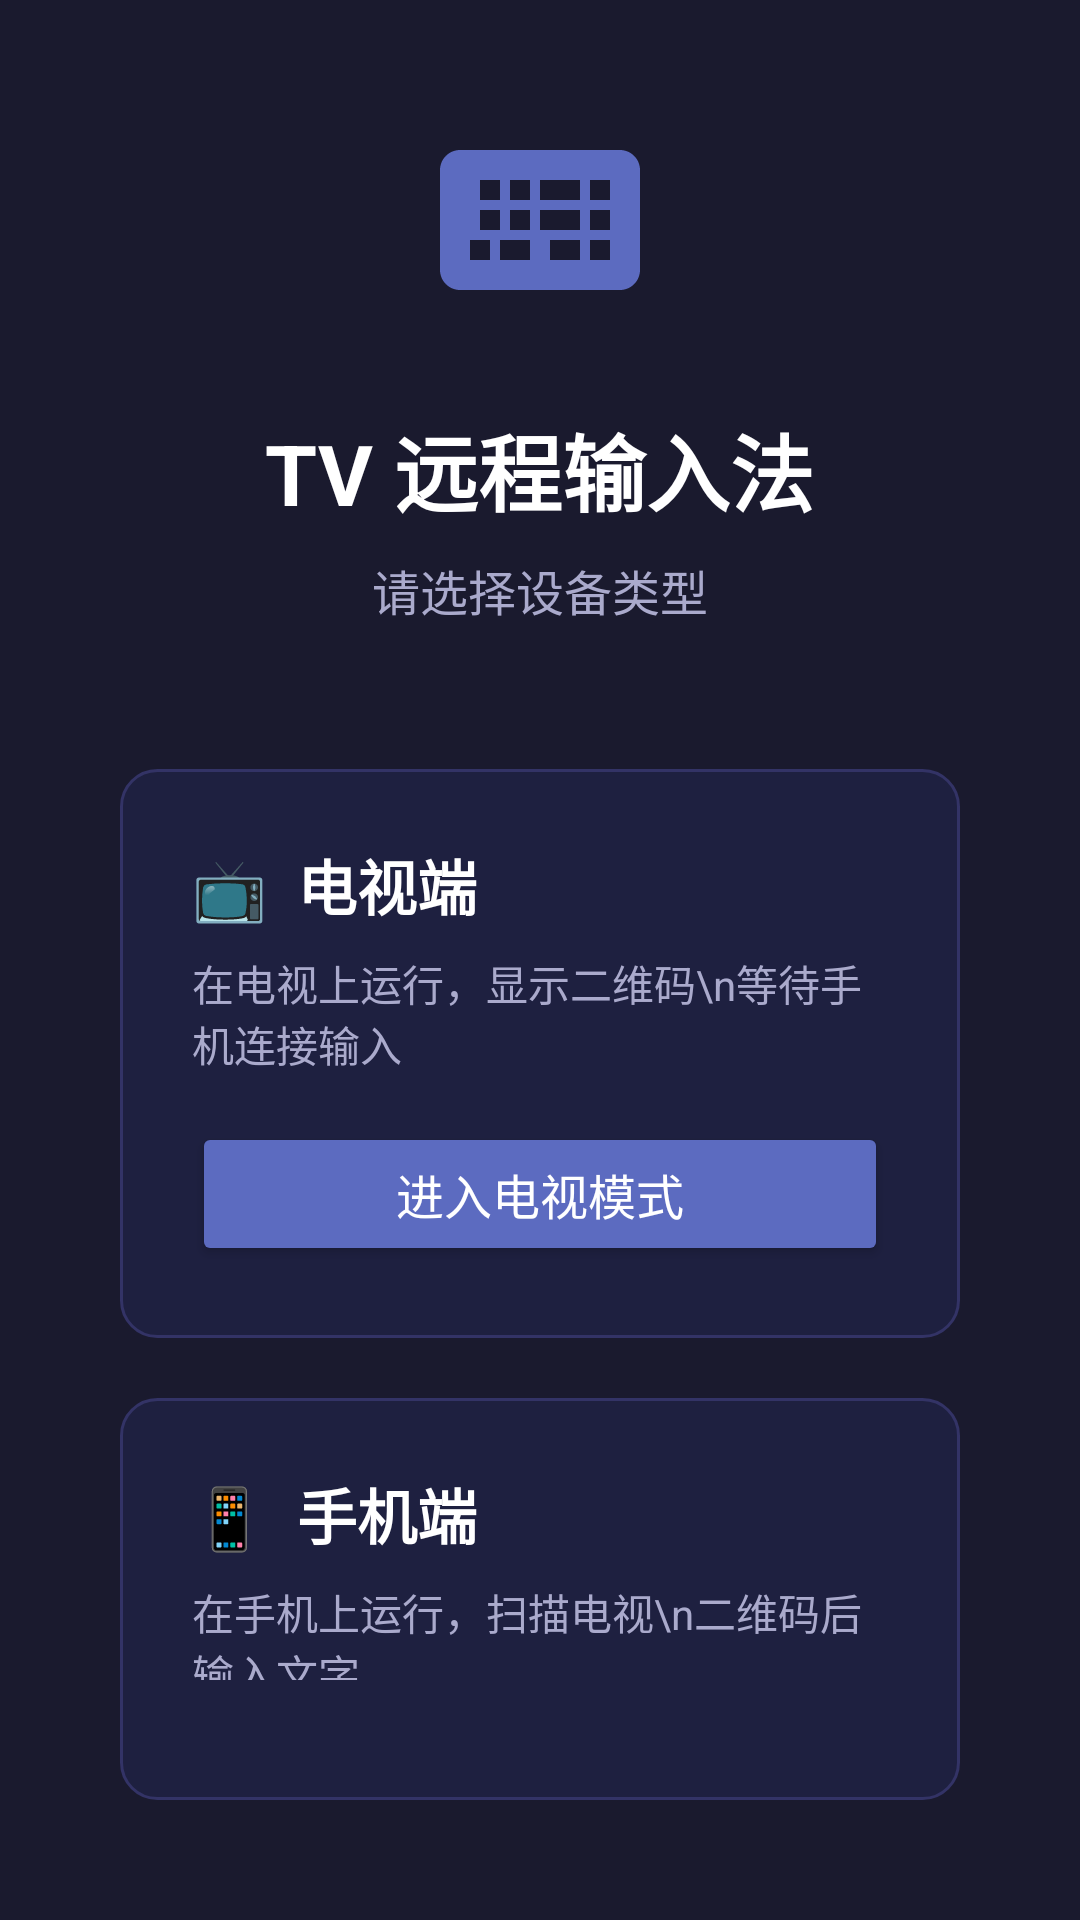

Screen size 1080*1920. Icon name, then its box in pixels as (x1, y1, x2, y2):
keyboard: (440, 150, 640, 290)
